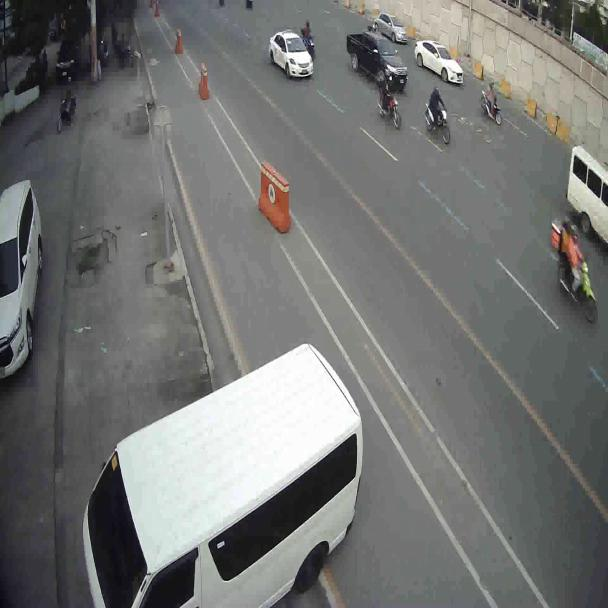motorcyclist: (547, 210, 601, 326), (423, 85, 452, 144), (480, 76, 507, 130), (377, 80, 405, 131), (54, 82, 80, 132)
vehicle: (76, 339, 368, 608), (1, 177, 44, 398), (564, 147, 608, 256), (348, 22, 409, 87), (269, 27, 314, 79), (416, 37, 464, 83)
